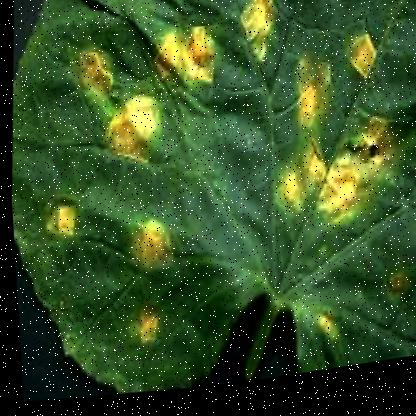Anthracnose: (30, 0, 415, 317)
